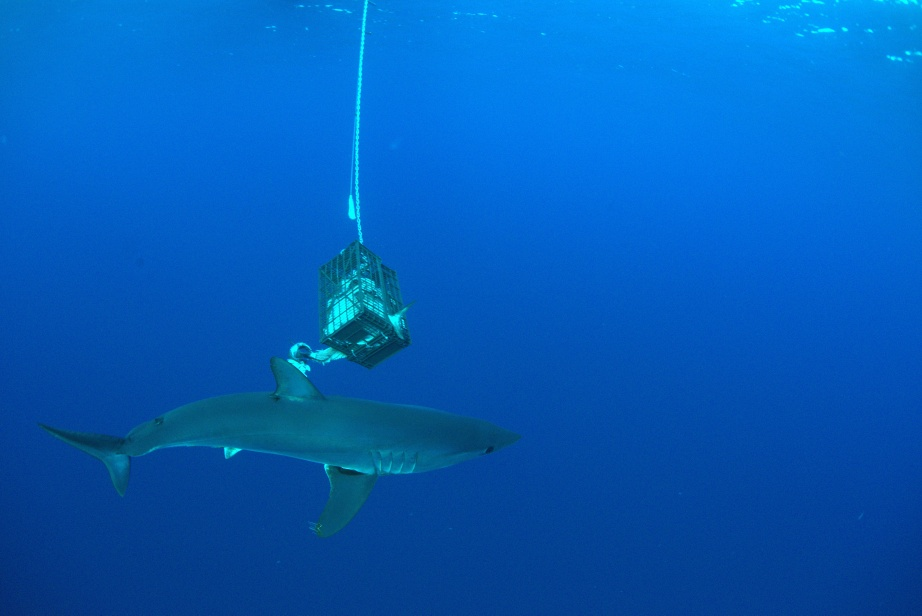Mako: (30, 352, 534, 552)
